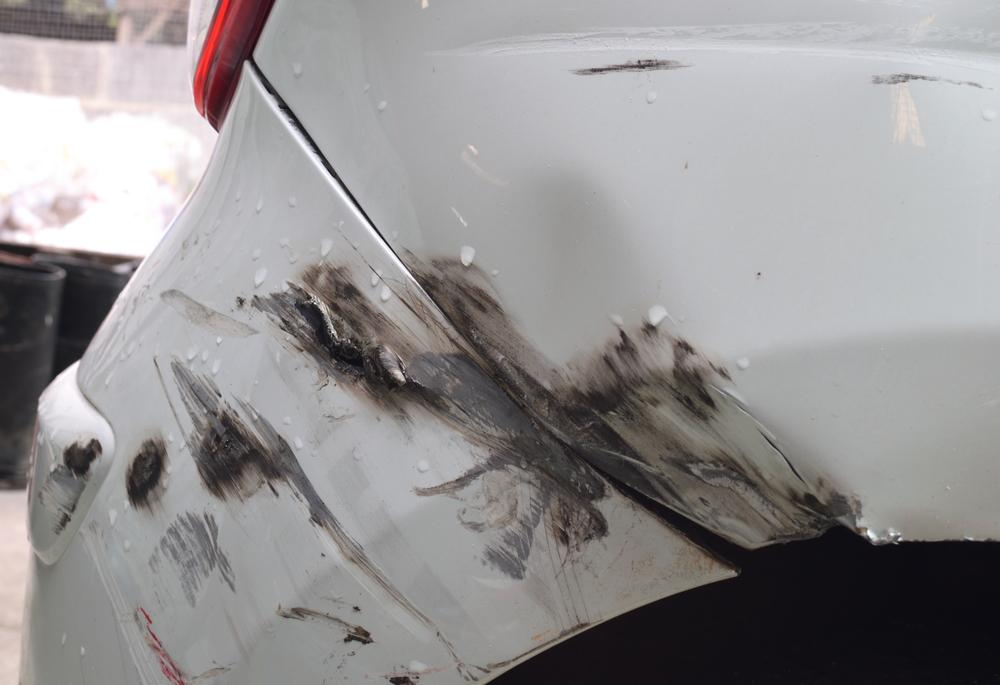dent: (504, 180, 646, 370)
scratch: (119, 257, 709, 685), (397, 254, 877, 548), (448, 25, 1000, 98), (34, 432, 100, 542)
